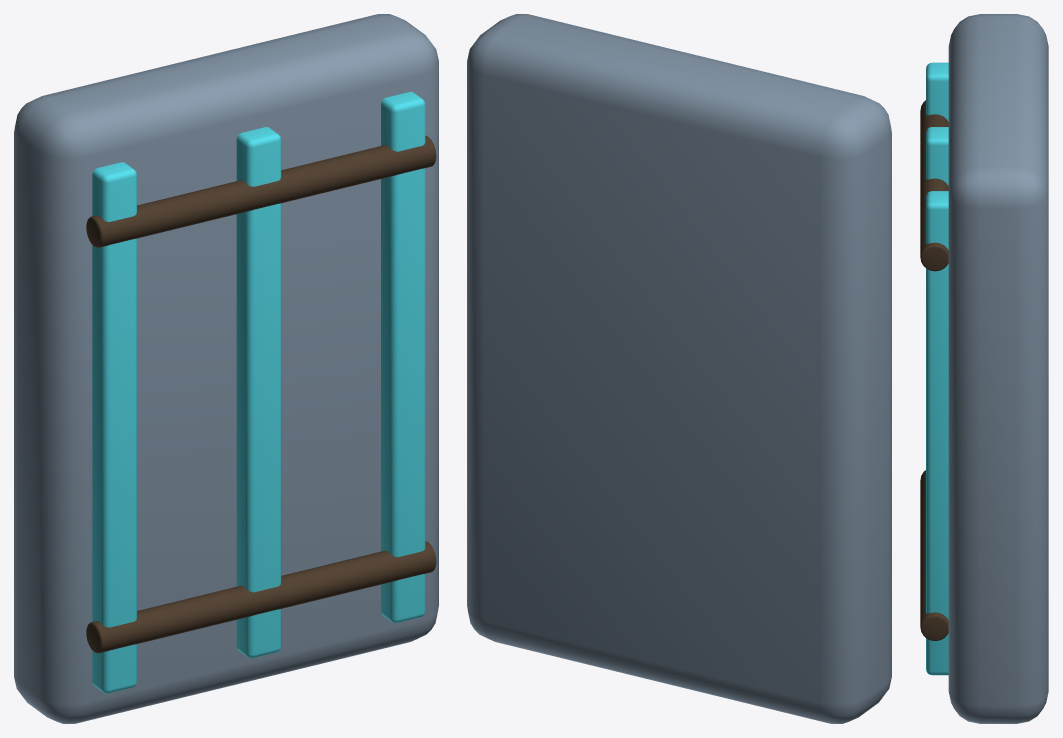
Rendered from shield_v3.glb.
3 views of the same model, side by side, from view 1: azimuth 30°, elevation 25°; view 2: azimuth 150°, elevation 25°; view 3: azimuth 270°, elevation 25° (orthographic). The views are drawn at different scales.
Parts seen in each view (by area): view 1: TOWER_SHIELD_PRIMARY, TOWER_RIB_ACCENT.001, TOWER_RIB_ACCENT, TOWER_RIB_ACCENT.002, TOWER_BAR_SECONDARY, TOWER_BAR_SECONDARY.001; view 2: TOWER_SHIELD_PRIMARY; view 3: TOWER_SHIELD_PRIMARY, TOWER_RIB_ACCENT.002, TOWER_BAR_SECONDARY.001, TOWER_BAR_SECONDARY, TOWER_RIB_ACCENT, TOWER_RIB_ACCENT.001.
Part boxes in pixels (x1,y1,x2,y2): TOWER_SHIELD_PRIMARY: [14, 14, 438, 723]; TOWER_RIB_ACCENT.001: [236, 127, 281, 658]; TOWER_RIB_ACCENT: [92, 162, 136, 693]; TOWER_RIB_ACCENT.002: [381, 91, 425, 622]; TOWER_BAR_SECONDARY: [86, 541, 436, 653]; TOWER_BAR_SECONDARY.001: [86, 135, 436, 247]; TOWER_SHIELD_PRIMARY: [467, 14, 891, 723]; TOWER_SHIELD_PRIMARY: [948, 14, 1048, 723]; TOWER_RIB_ACCENT.002: [926, 191, 948, 675]; TOWER_BAR_SECONDARY.001: [920, 100, 948, 271]; TOWER_BAR_SECONDARY: [920, 470, 948, 640]; TOWER_RIB_ACCENT: [926, 62, 948, 121]; TOWER_RIB_ACCENT.001: [926, 127, 948, 185].
Size of the model in its own units: 1.84 by 2.7 by 0.565.
